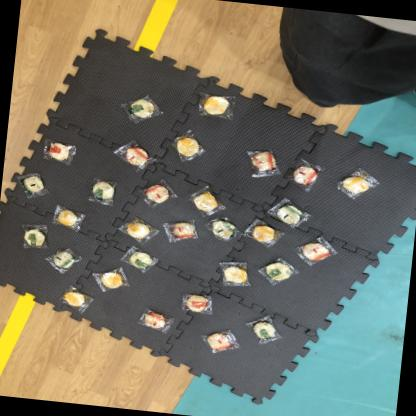green_setoshio: (118, 93, 163, 128), (84, 176, 122, 209), (118, 245, 159, 275), (245, 314, 282, 347), (256, 256, 294, 288), (43, 244, 82, 275), (14, 169, 50, 200), (271, 201, 308, 229), (19, 221, 51, 252), (206, 214, 238, 242)
red_setoshio: (293, 234, 337, 267), (116, 138, 156, 173), (198, 326, 238, 358), (176, 289, 217, 318), (286, 160, 322, 192), (137, 180, 173, 211), (246, 147, 280, 178), (134, 307, 172, 333), (40, 138, 76, 165), (162, 217, 198, 243)
yellow_setoshio: (332, 166, 376, 202), (167, 128, 207, 163), (194, 92, 236, 121), (188, 186, 224, 216), (92, 266, 130, 294), (246, 220, 282, 248), (118, 216, 155, 243), (219, 260, 252, 290), (49, 205, 83, 232), (60, 284, 91, 312)
